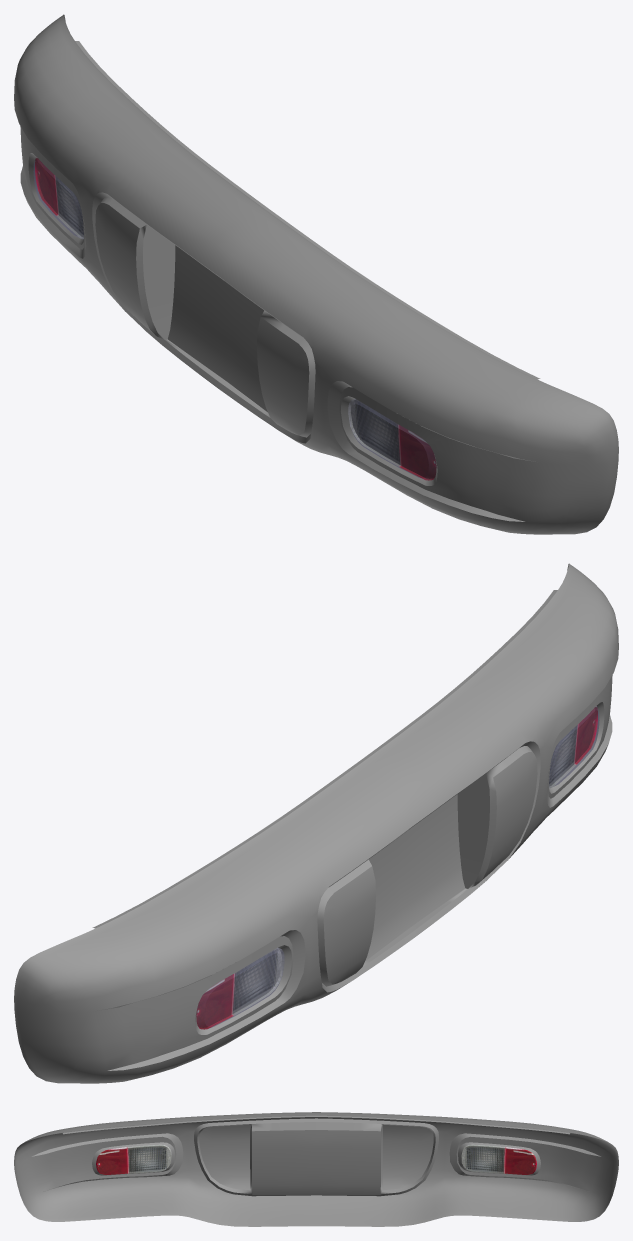
3 views of the same model, one above another, from view 1: azimuth 30°, elevation 25°; view 2: azimuth 150°, elevation 25°; view 3: azimuth 270°, elevation 25° (orthographic). The views are drawn at different scales.
Parts seen in each view (by area): view 1: M720_561G_C_M720_561G_C_3_DaS, M720_561G_C_M720_561G_C_3_DaS_E, M720_561G_C_M720_561G_C_5_DTaSI, M720_561G_C_M720_561G_C_2_N, M720_561G_C_M720_561G_C_4_DTaSI, M720_561G_C_1_N_M720_561G_C; view 2: M720_561G_C_M720_561G_C_3_DaS, M720_561G_C_M720_561G_C_3_DaS_E, M720_561G_C_M720_561G_C_4_DTaSI, M720_561G_C_1_N_M720_561G_C, M720_561G_C_M720_561G_C_5_DTaSI, M720_561G_C_M720_561G_C_2_N; view 3: M720_561G_C_M720_561G_C_3_DaS, M720_561G_C_M720_561G_C_3_DaS_E, M720_561G_C_1_N_M720_561G_C, M720_561G_C_M720_561G_C_2_N.
Part boxes in pixels (box(x1,y1,x2,y2)): M720_561G_C_M720_561G_C_3_DaS: box(14, 14, 618, 534); M720_561G_C_M720_561G_C_3_DaS_E: box(20, 153, 535, 521); M720_561G_C_M720_561G_C_5_DTaSI: box(348, 399, 436, 480); M720_561G_C_M720_561G_C_2_N: box(348, 399, 436, 480); M720_561G_C_M720_561G_C_4_DTaSI: box(33, 157, 83, 238); M720_561G_C_1_N_M720_561G_C: box(35, 157, 83, 239); M720_561G_C_M720_561G_C_3_DaS: box(14, 563, 618, 1083); M720_561G_C_M720_561G_C_3_DaS_E: box(97, 702, 612, 1070); M720_561G_C_M720_561G_C_4_DTaSI: box(196, 948, 284, 1029); M720_561G_C_1_N_M720_561G_C: box(196, 948, 284, 1029); M720_561G_C_M720_561G_C_5_DTaSI: box(549, 706, 599, 787); M720_561G_C_M720_561G_C_2_N: box(549, 706, 597, 788); M720_561G_C_M720_561G_C_3_DaS: box(14, 1112, 618, 1226); M720_561G_C_M720_561G_C_3_DaS_E: box(32, 1118, 600, 1196); M720_561G_C_1_N_M720_561G_C: box(461, 1144, 536, 1174); M720_561G_C_M720_561G_C_2_N: box(96, 1144, 171, 1174).
Size of the model in its own units: 29.43 by 36.19 by 190.
